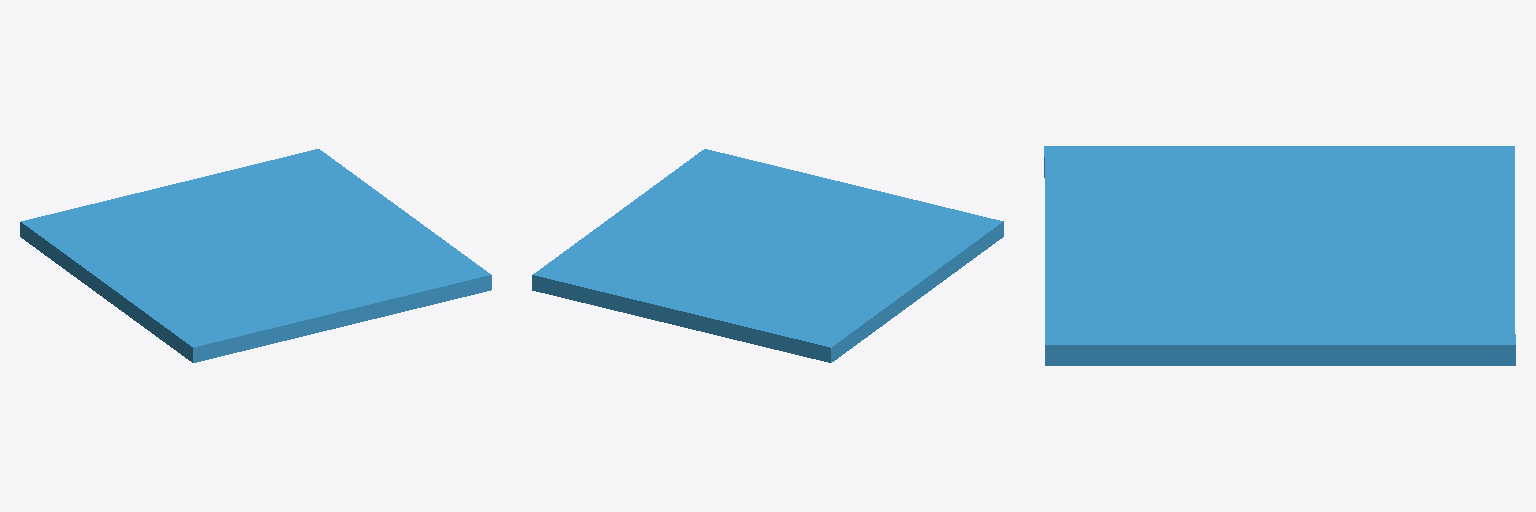
robot.urdf — aruco_plate:
<?xml version="1.0"?>

<!--Image of aruco code -->
<robot name="aruco_plate">
  <link name="base_link_aruco">
  <inertial>
      <mass value="0.00001"/>
      <inertia ixx="0.0001" ixy="0" ixz="0" iyy="0.0001" iyz="0" izz="0.0001"/>
    </inertial>
    <visual>
      <origin rpy="0 0 -1.57" xyz="2.75 2.25 -4.47"/>
      <geometry>
        <mesh filename="[local-path]/catkin_ws/src/fiducials/aruco_image/urdf/urdf2/plate.dae" />
      </geometry>
    </visual>
   <collision>
         <origin rpy="0 0 0" xyz="0 0 0"/>
      <geometry>
        <mesh filename="[local-path]/catkin_ws/src/fiducials/aruco_image/urdf/urdf2/plate.dae" />
      </geometry>
   </collision>
  </link>

<!--Box under the image -->
  <link name="my_box">
    <inertial>
      <origin xyz="0 0 0" />
      <mass value="0.000001" />
      <inertia  ixx="0.001" ixy="0.0"  ixz="0"  iyy="0.001"  iyz="0"  izz="0.001" />
    </inertial>
    <visual>
      <origin rpy="0 0 -1.57" xyz="3.0 2.0 -4.5"/>
      <geometry>
        <box size="1 1 0.05" />
      </geometry>
    </visual>
    <collision>
      <origin xyz="0 0 0"/>
      <geometry>
        <box size="1 1 0.05" />
      </geometry>
    </collision>
  </link>

  <gazebo reference="my_box">
    <material>Gazebo/White</material>
  </gazebo>

  <joint name="box_to_plate" type="fixed">
    <parent link="my_box"/>
    <child link="base_link_aruco"/>
    <origin rpy="0 0 0" xyz="0 0 0"/>
  </joint>-->
  <gazebo>
	<static>true</static>
  </gazebo>
</robot>

--- Facts derived from the render (not from the file) ---
Views: 3 orthographic renders of the robot side by side, from view 1: azimuth 30°, elevation 25°; view 2: azimuth 150°, elevation 25°; view 3: azimuth 270°, elevation 25°.
Model aruco_plate with 2 links and 1 joints (1 fixed), rooted at my_box, posed all joints at 0.
Links seen in each view (by area): view 1: my_box; view 2: my_box; view 3: my_box.
Link boxes in pixels (x1,y1,x2,y2): my_box: (20, 149, 491, 362); my_box: (532, 149, 1003, 362); my_box: (1044, 146, 1515, 365).
Bounding box of the posed robot: 1 × 1 × 0.05 m (x, y, z).
Geometry: only primitive shapes (box / cylinder / sphere) drawn; not drawn: 1 mesh visual (reference in a form the renderer does not follow).